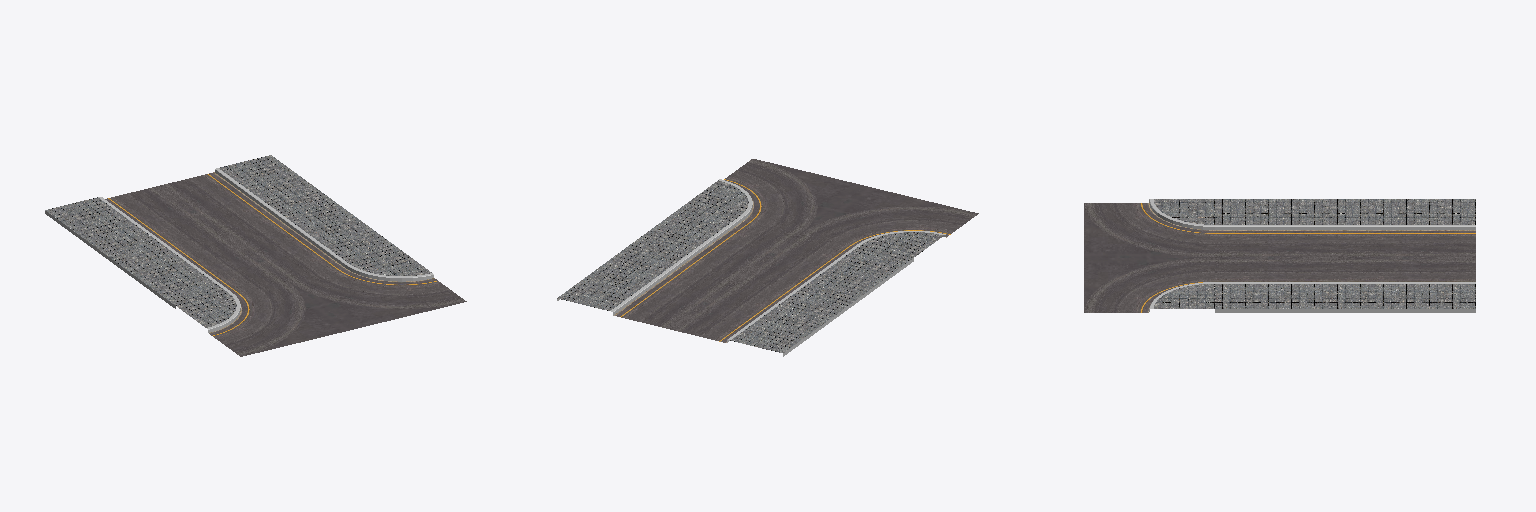
The picture shows the model from 3 angles: view 1: azimuth 30°, elevation 25°; view 2: azimuth 150°, elevation 25°; view 3: azimuth 270°, elevation 25°; orthographic projection.
Parts seen in each view (by area): view 1: Plane.008_Plane.019; view 2: Plane.008_Plane.019; view 3: Plane.008_Plane.019.
Part boxes in pixels (bbox=[...]): Plane.008_Plane.019: bbox=[45, 155, 466, 356]; Plane.008_Plane.019: bbox=[557, 159, 978, 356]; Plane.008_Plane.019: bbox=[1084, 199, 1475, 312].
Bounding box in the file's own units: 24 × 0.3524 × 36.
Materials: 6 (3 with a texture image).